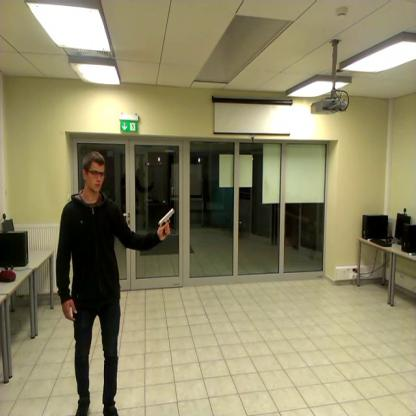Pistol: (149, 205, 181, 243)
